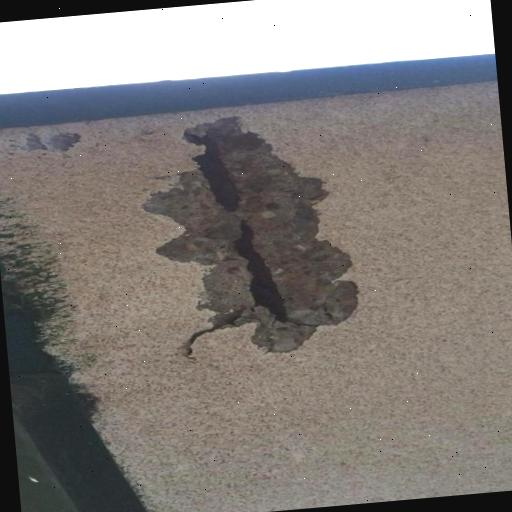spalling: (146, 120, 359, 356), (170, 315, 249, 372)
